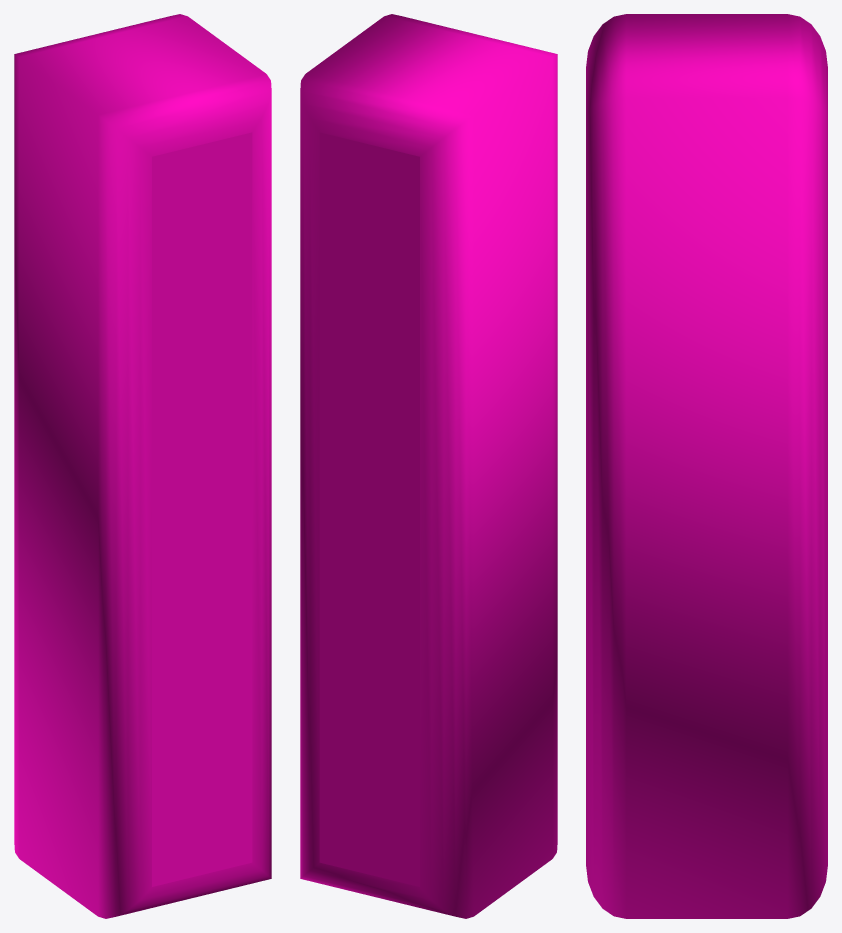
3 views of the same model, side by side, from view 1: azimuth 30°, elevation 25°; view 2: azimuth 150°, elevation 25°; view 3: azimuth 270°, elevation 25° (orthographic). The views are drawn at different scales.
Parts seen in each view (by area): view 1: Text; view 2: Text; view 3: Text.
Part boxes in pixels (x1,y1,x2,y2): Text: (14,14,271,918); Text: (300,14,557,918); Text: (586,14,827,918).
Bounding box in the file's own units: 0.494 × 2.25 × 0.6.
